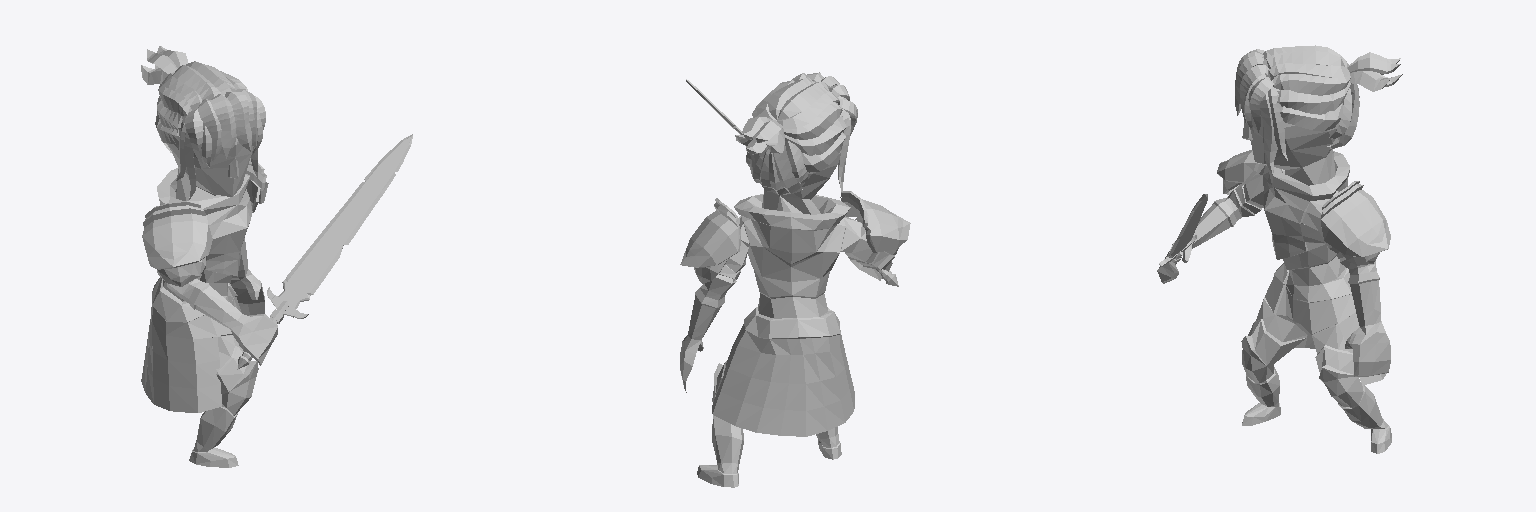
3 views of the same model, side by side, from view 1: azimuth 30°, elevation 25°; view 2: azimuth 150°, elevation 25°; view 3: azimuth 270°, elevation 25° (orthographic).
Visible parts, largest first — view 1: Warrior.002__ncl1_29.005, Face__ncl1_29.002, Warrior_Sword_Cylinder.001, Shoulder.R__ncl1_29.001, Shoulder.L__ncl1_29.000; view 2: Warrior.002__ncl1_29.005, Face__ncl1_29.002, Shoulder.L__ncl1_29.000, Shoulder.R__ncl1_29.001; view 3: Warrior.002__ncl1_29.005, Face__ncl1_29.002, Shoulder.L__ncl1_29.000, Shoulder.R__ncl1_29.001, Warrior_Sword_Cylinder.001.
Part boxes in pixels (bbox=[...]): Warrior.002__ncl1_29.005: bbox=[141, 116, 277, 467]; Face__ncl1_29.002: bbox=[141, 46, 265, 199]; Warrior_Sword_Cylinder.001: bbox=[237, 134, 412, 369]; Shoulder.R__ncl1_29.001: bbox=[142, 201, 212, 286]; Shoulder.L__ncl1_29.000: bbox=[246, 158, 268, 212]; Warrior.002__ncl1_29.005: bbox=[680, 117, 894, 487]; Face__ncl1_29.002: bbox=[735, 72, 857, 195]; Shoulder.L__ncl1_29.000: bbox=[680, 198, 740, 283]; Shoulder.R__ncl1_29.001: bbox=[840, 191, 910, 254]; Warrior.002__ncl1_29.005: bbox=[1157, 111, 1391, 453]; Face__ncl1_29.002: bbox=[1235, 45, 1402, 174]; Shoulder.L__ncl1_29.000: bbox=[1321, 181, 1390, 265]; Shoulder.R__ncl1_29.001: bbox=[1217, 150, 1264, 194]; Warrior_Sword_Cylinder.001: bbox=[1159, 194, 1207, 266].
Size of the model in its own units: 1.87 by 2.79 by 1.65.